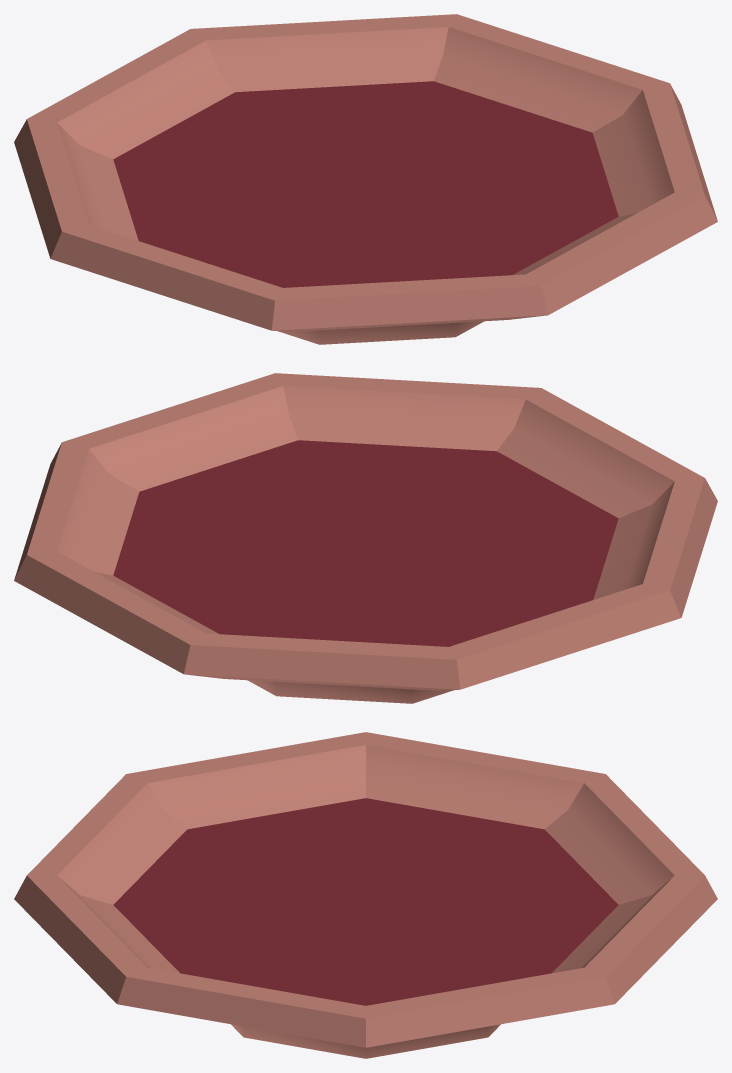
The model's file is pigment_red.glb.
The picture shows the model from 3 angles, top to bottom: view 1: azimuth 30°, elevation 25°; view 2: azimuth 150°, elevation 25°; view 3: azimuth 270°, elevation 25°; orthographic projection. The views are drawn at different scales.
Parts seen in each view (by area): view 1: polySurface1, pCylinder4; view 2: polySurface1, pCylinder4; view 3: polySurface1, pCylinder4.
Part boxes in pixels (left/top/right/bottom): polySurface1: left=14, top=14, right=717, bottom=344; pCylinder4: left=113, top=81, right=618, bottom=287; polySurface1: left=14, top=373, right=717, bottom=703; pCylinder4: left=113, top=440, right=618, bottom=646; polySurface1: left=14, top=732, right=717, bottom=1058; pCylinder4: left=113, top=798, right=618, bottom=1005.
Bounding box in the file's own units: 0.0168 × 0.0029 × 0.0168.
1 material, 1 textured.
